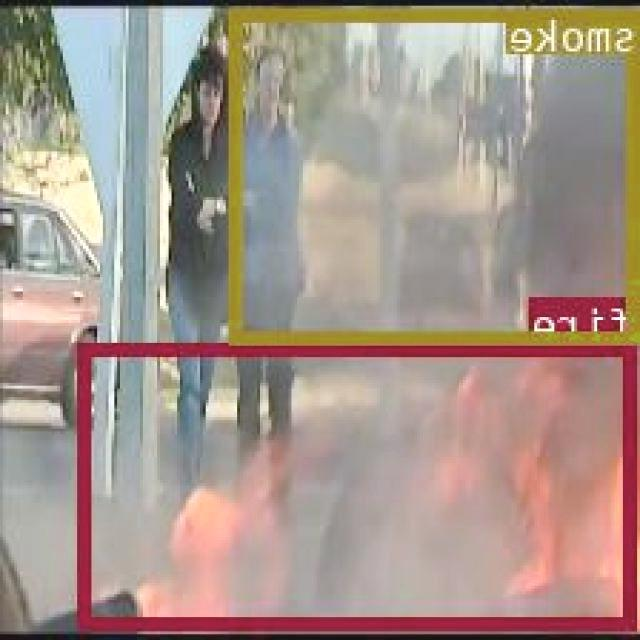fire: (81, 342, 638, 628)
smoke: (234, 7, 640, 342)
